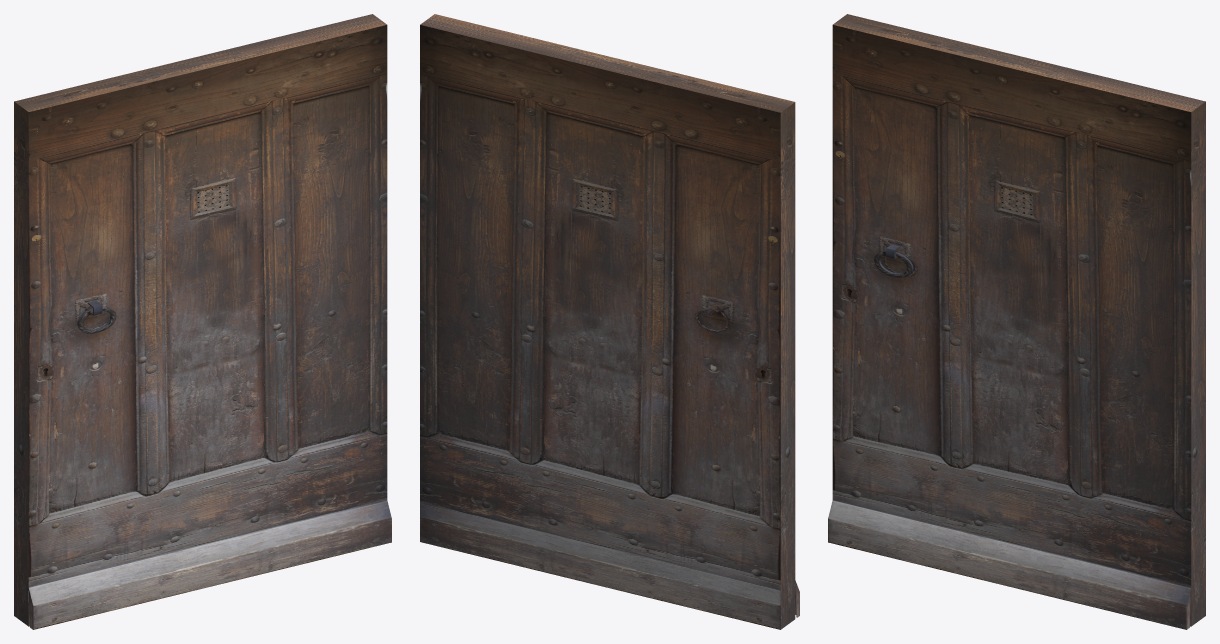
File: Door_K.fbx
3 views of the same model, side by side, from view 1: azimuth 30°, elevation 25°; view 2: azimuth 150°, elevation 25°; view 3: azimuth 330°, elevation 25° (orthographic).
Parts seen in each view (by area): view 1: Door_K; view 2: Door_K; view 3: Door_K.
Part boxes in pixels (x1,y1,x2,y2): Door_K: (14,14,391,629); Door_K: (420,14,799,629); Door_K: (828,14,1205,629).
Size of the model in its own units: 3.97 by 5.44 by 0.4023.
1 material, 1 textured.
